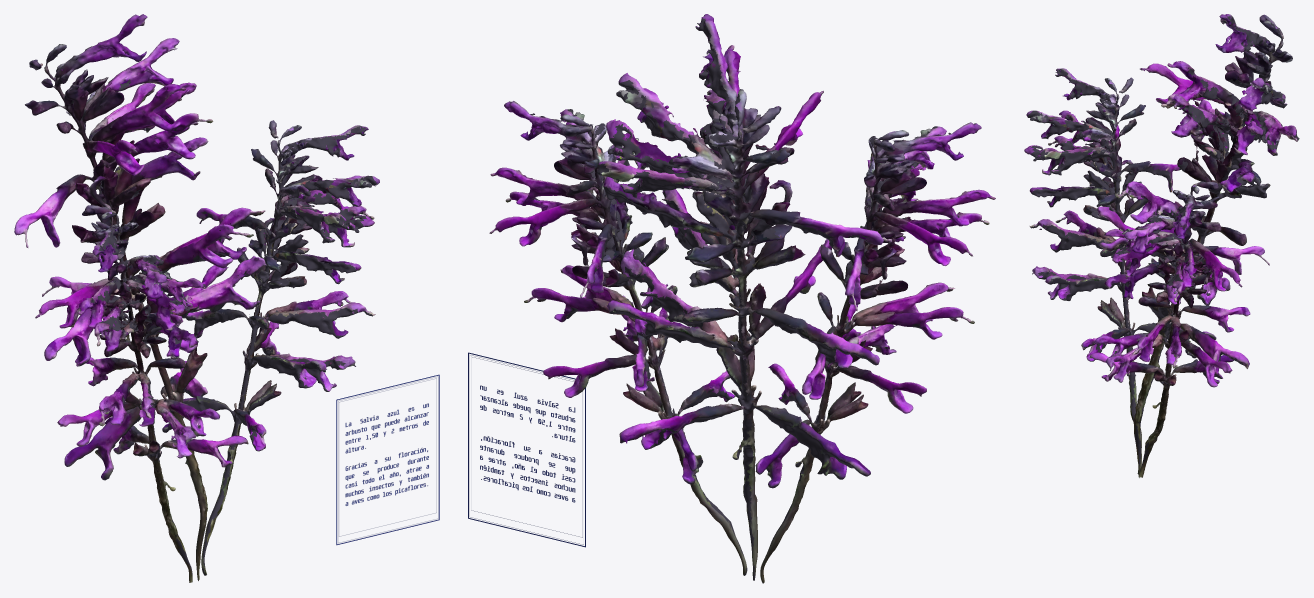
Rendered from salvia_individual.glb.
3 views of the same model, side by side, from view 1: azimuth 30°, elevation 25°; view 2: azimuth 150°, elevation 25°; view 3: azimuth 270°, elevation 25° (orthographic). The views are drawn at different scales.
Visible parts, largest first — view 1: salvia, salvia.001, Plane; view 2: salvia.001, salvia, Plane; view 3: salvia, salvia.001.
Boxes of the visible parts, x1,y1,x2,y2 form: salvia: (35,120,379,582); salvia.001: (14,14,266,580); Plane: (336,374,439,545); salvia.001: (597,14,891,580); salvia: (489,101,995,583); Plane: (468,352,585,547); salvia: (1024,68,1269,477); salvia.001: (1097,14,1299,477).
Bounding box in the file's own units: 11.56 × 13.96 × 7.54.
Materials: 68 (68 with a texture image).
